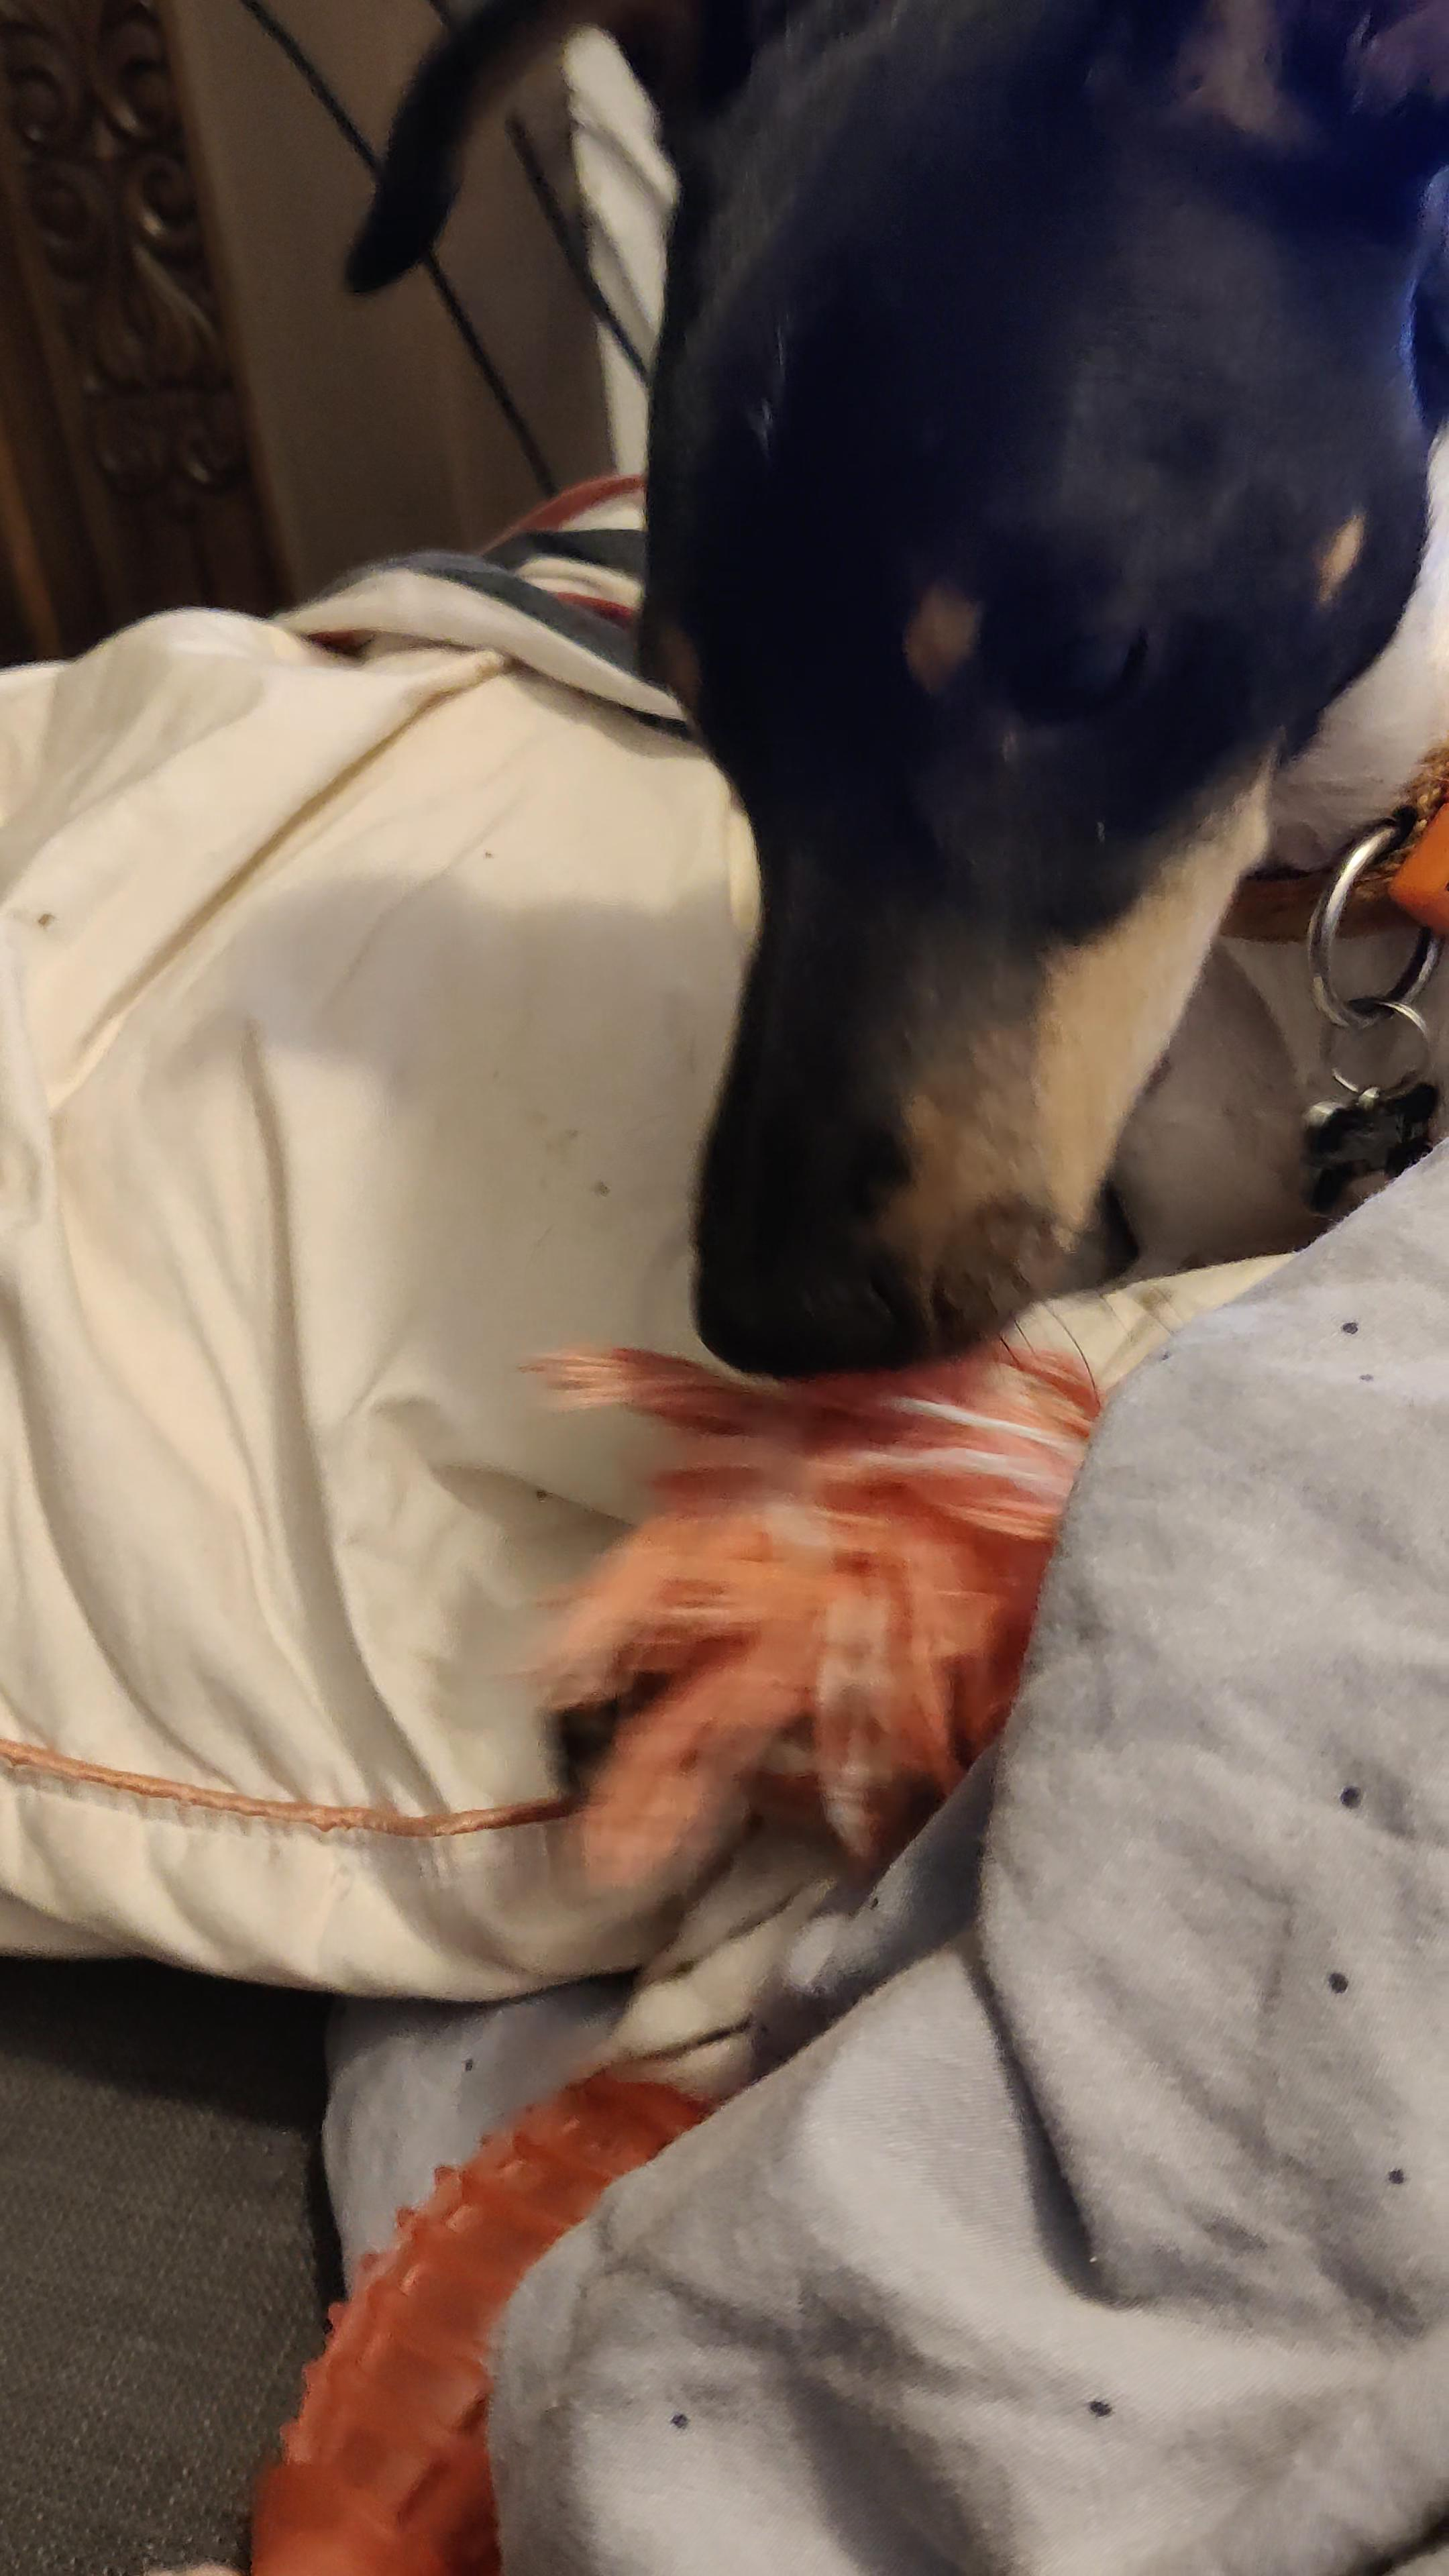Dog: (327, 0, 1449, 2125)
